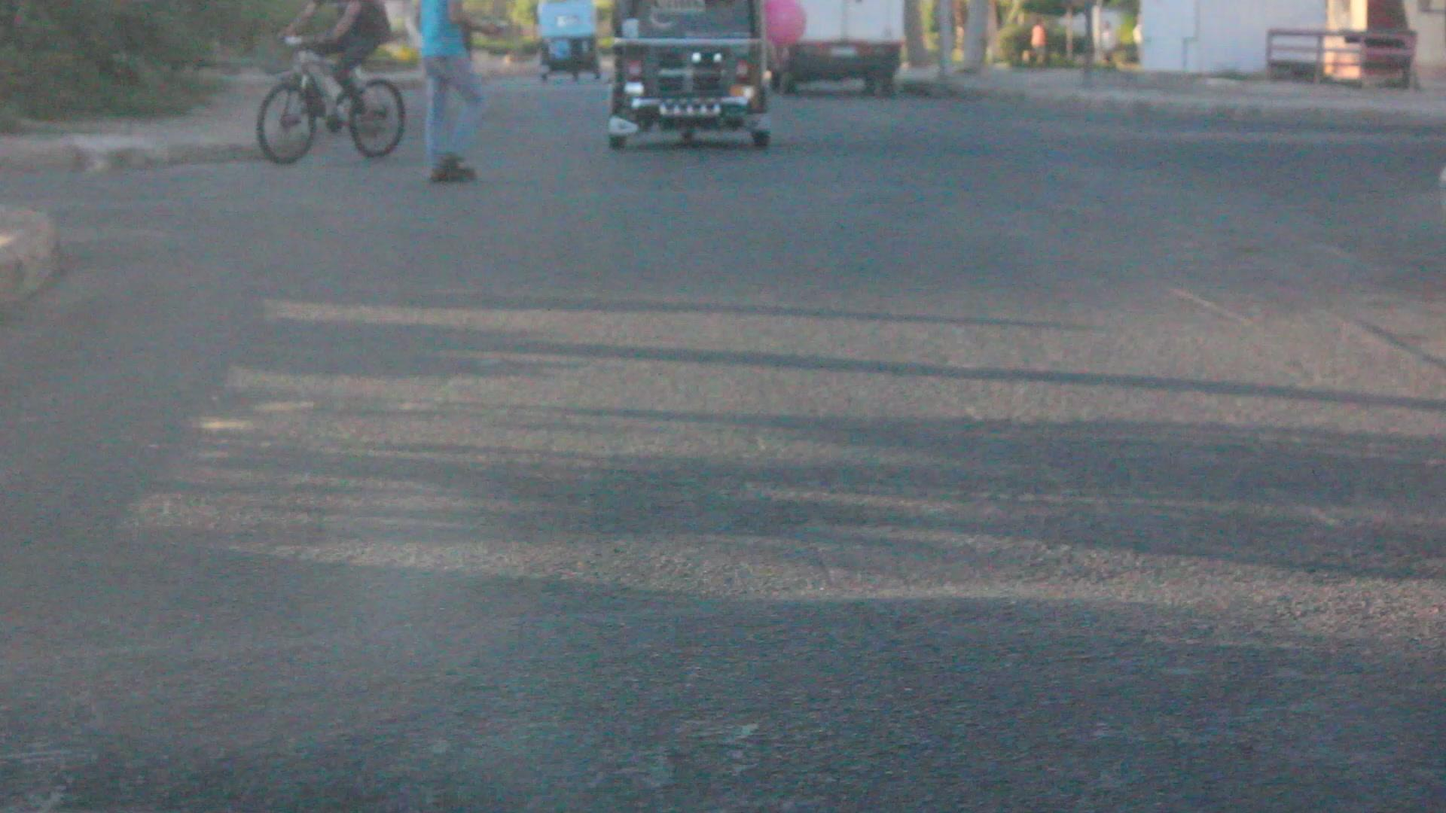Bump: (28, 621, 1446, 813)
